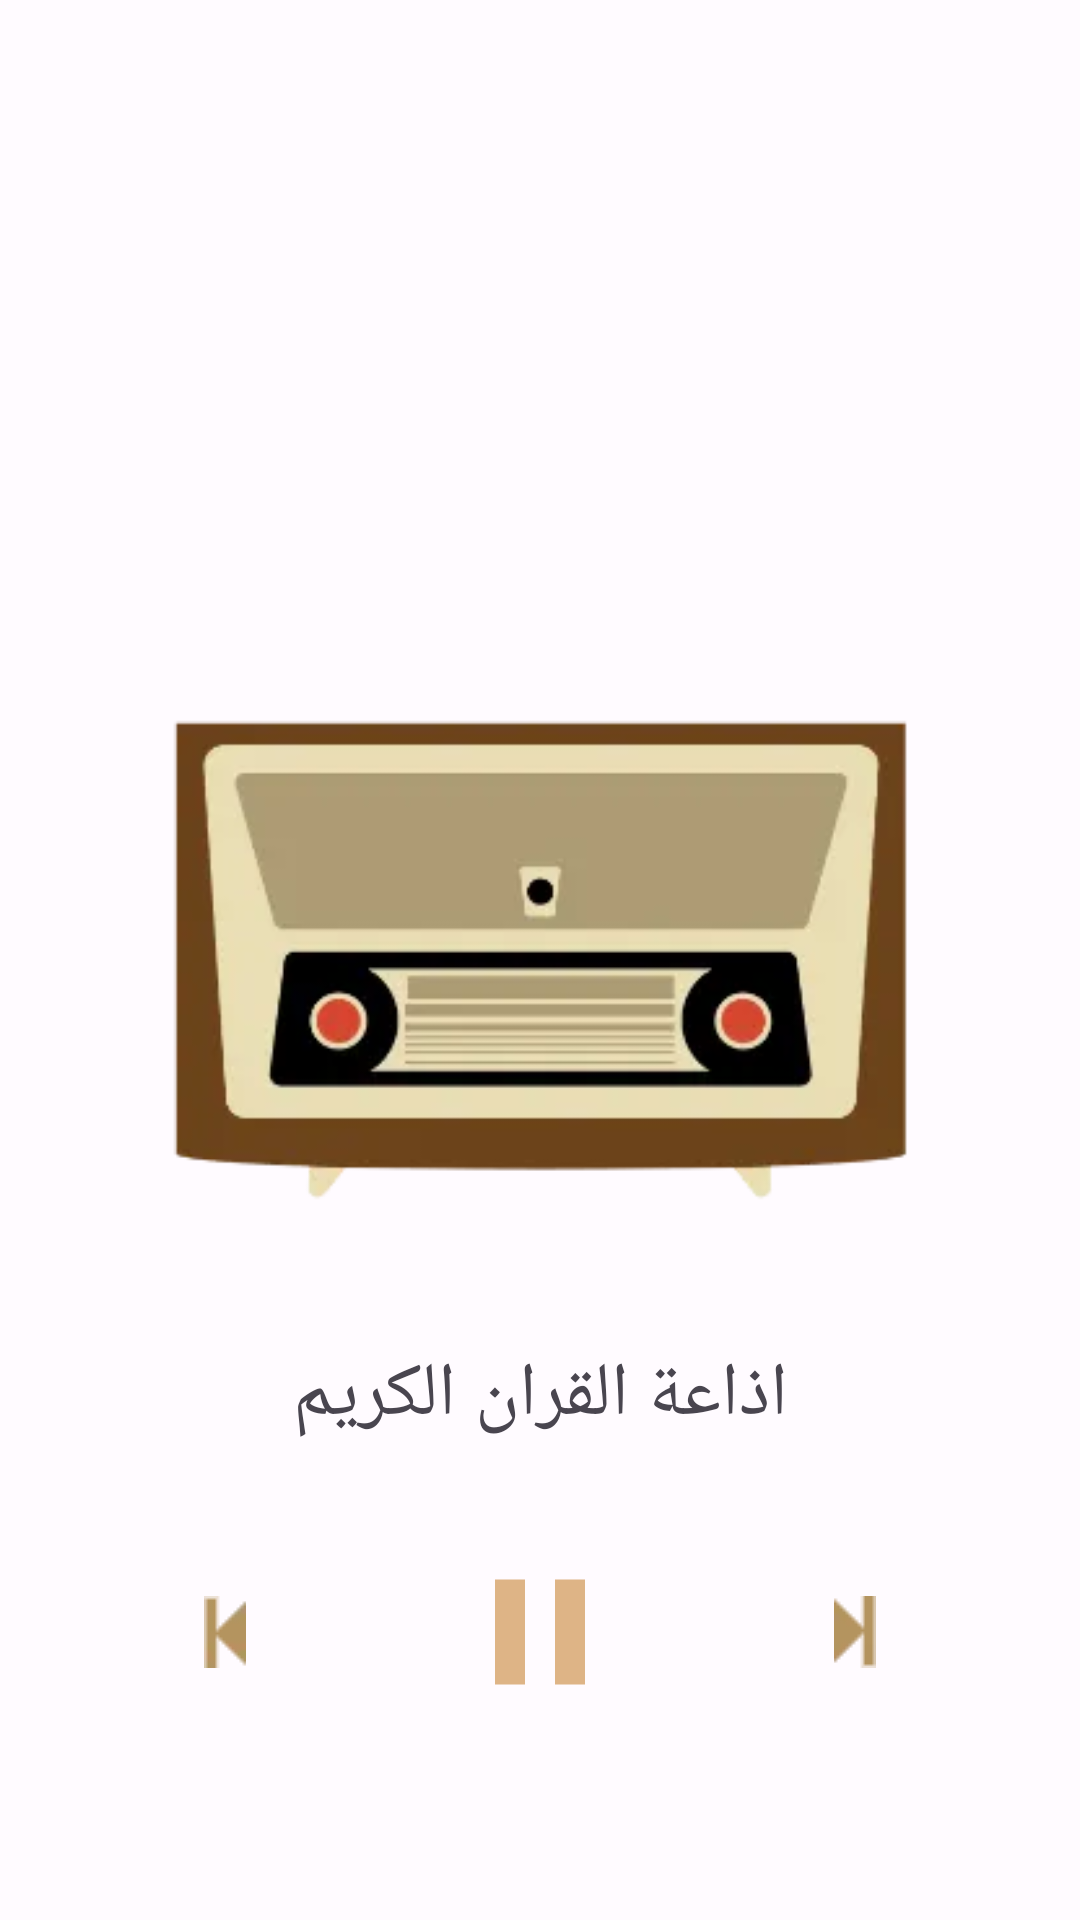

Named icons in this screenshot (1080 x 1920) and their centers, point (x, y):
backward gold: point (225, 1632)
forward gold: point (855, 1632)
pause: point (540, 1632)
